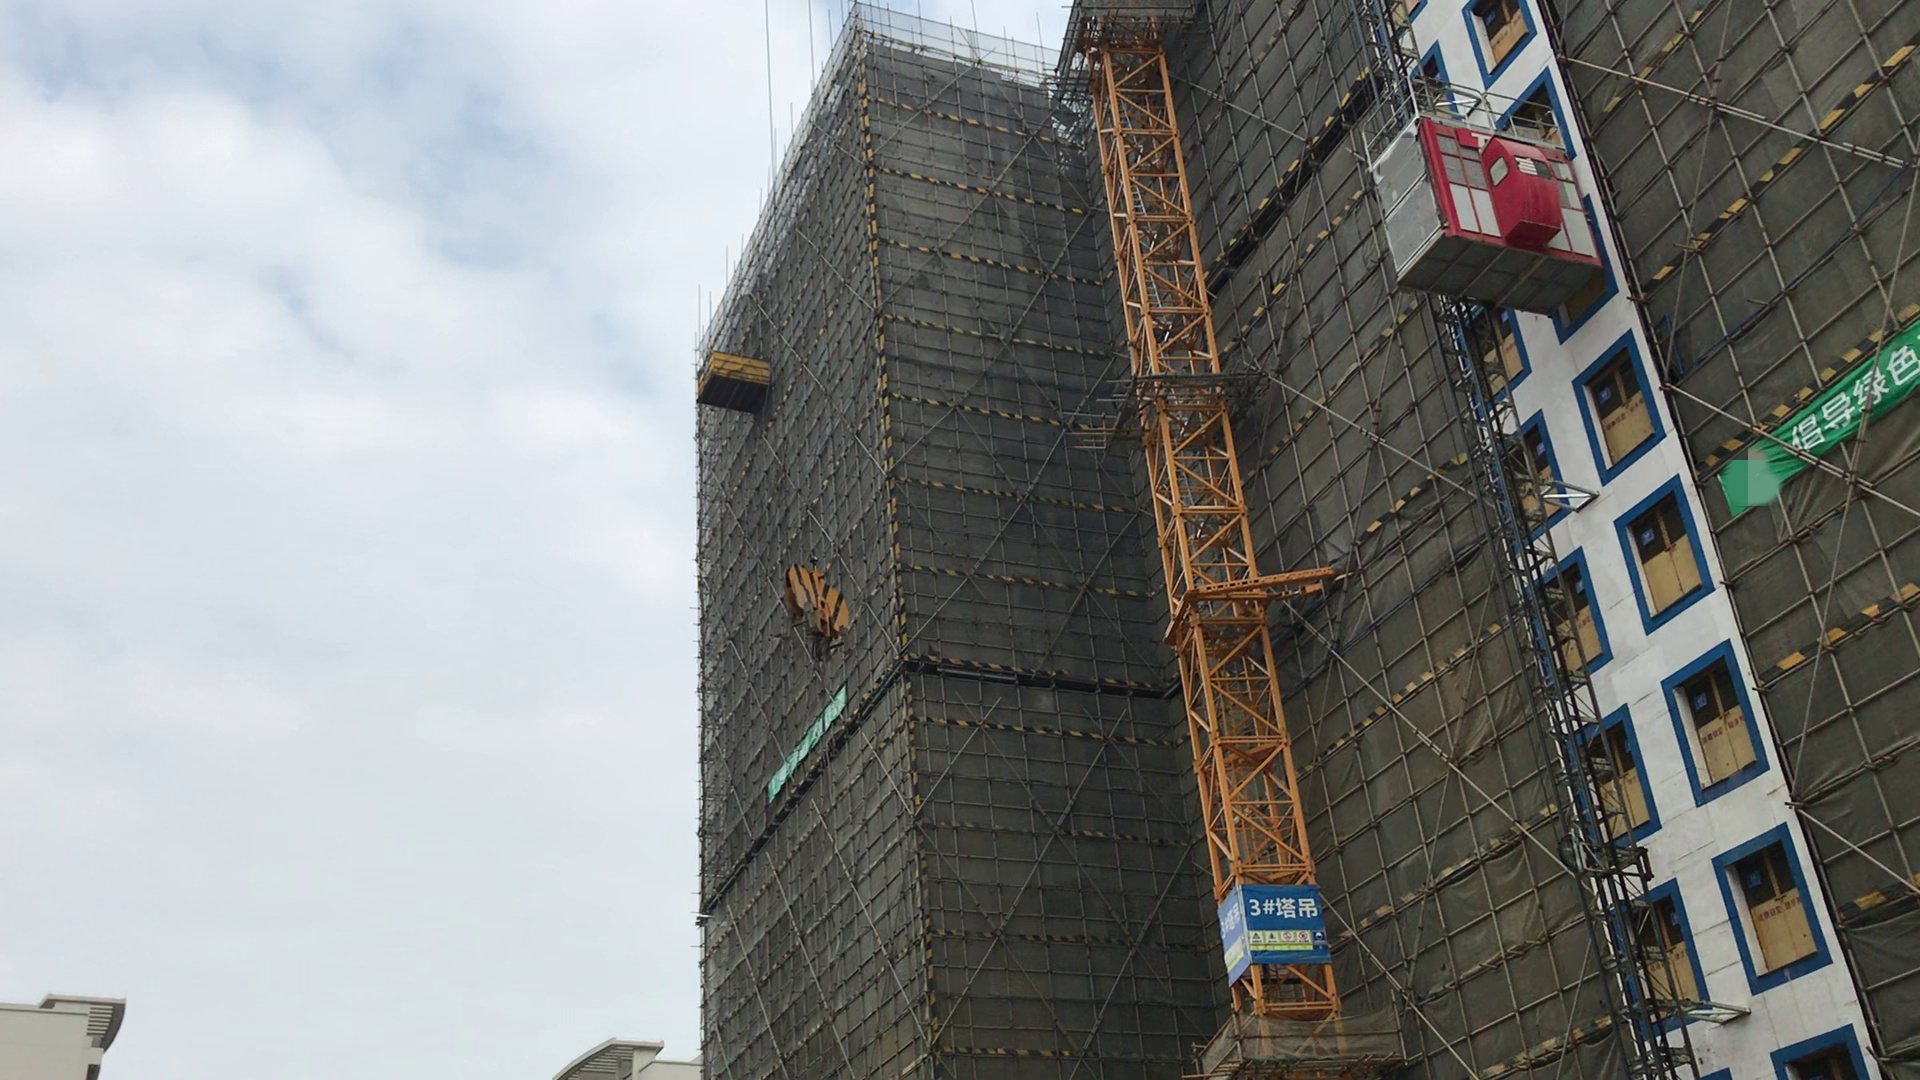hook: (779, 556, 852, 650)
slogan: (1772, 328, 1920, 477)
